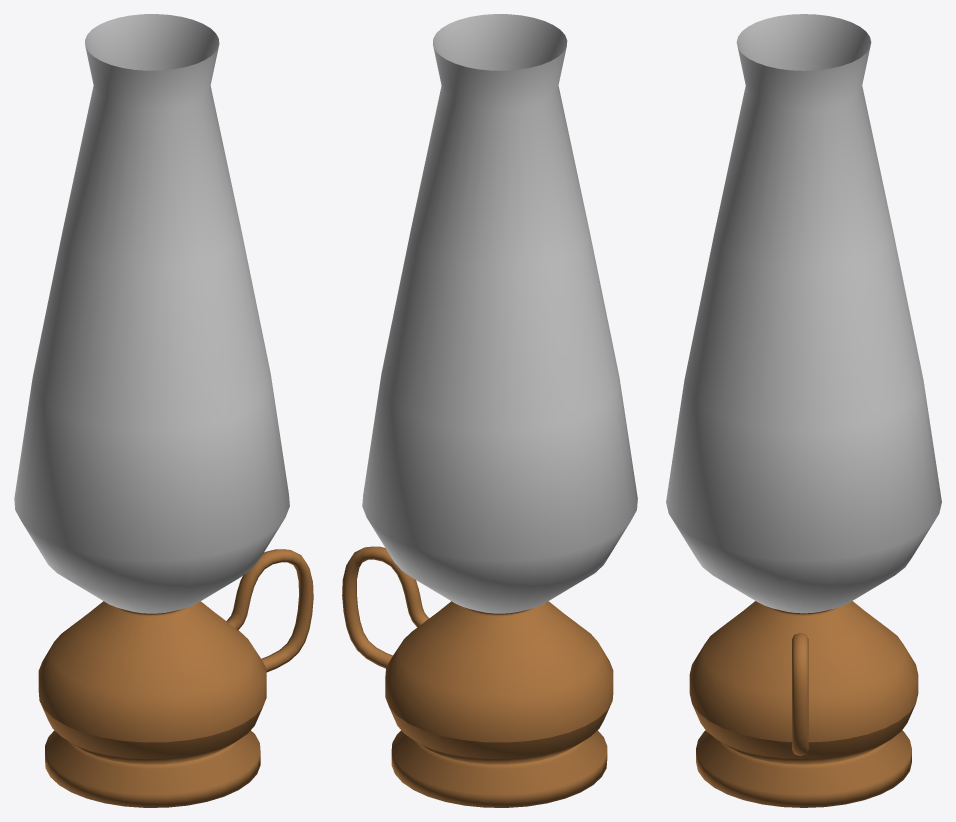
File: GAZ LAMBASI.fbx
3 views of the same model, side by side, from view 1: azimuth 30°, elevation 25°; view 2: azimuth 150°, elevation 25°; view 3: azimuth 270°, elevation 25° (orthographic).
Visible parts, largest first — view 1: Cylinder.001, Plane; view 2: Cylinder.001, Plane; view 3: Cylinder.001, Plane.
Boxes of the visible parts, bbox=[...] form: Cylinder.001: bbox=[14, 14, 289, 613]; Plane: bbox=[38, 549, 313, 807]; Cylinder.001: bbox=[362, 14, 637, 613]; Plane: bbox=[342, 546, 613, 807]; Cylinder.001: bbox=[666, 14, 941, 613]; Plane: bbox=[689, 601, 918, 807].
Size of the model in its own units: 297 by 735 by 256.
